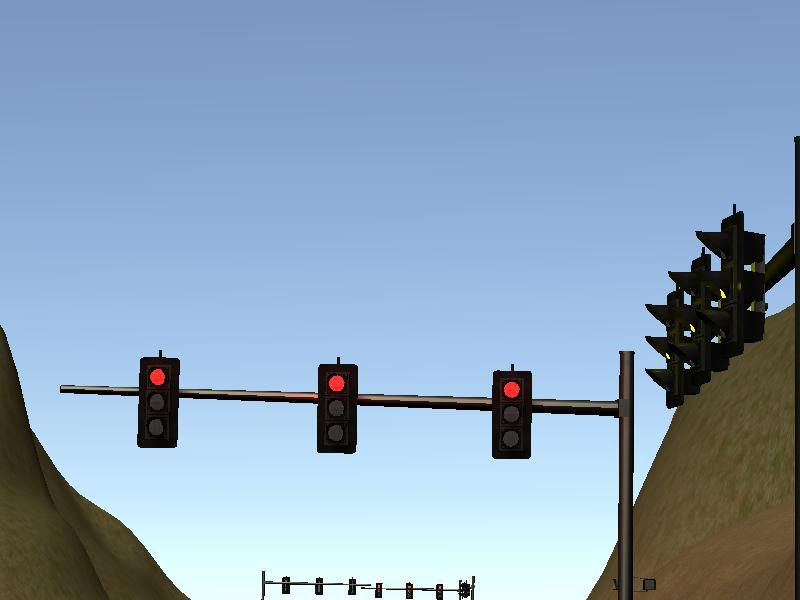Red: (133, 354, 183, 451), (313, 362, 363, 459), (488, 369, 535, 463)
